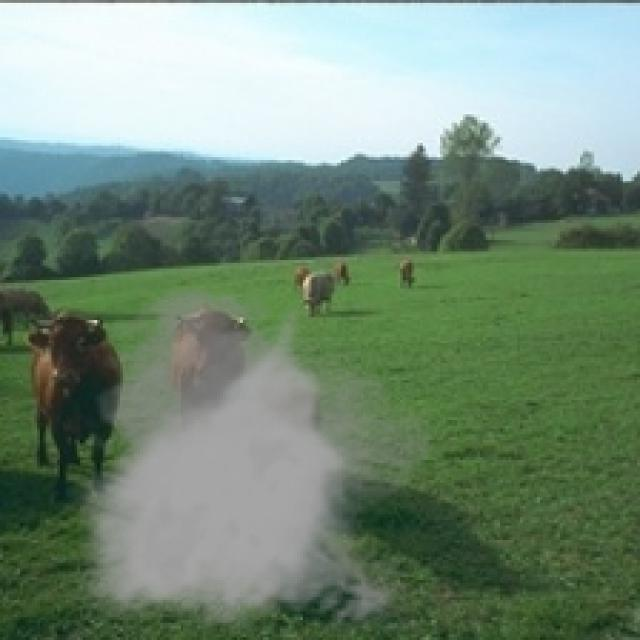smoke: (66, 283, 434, 634)
